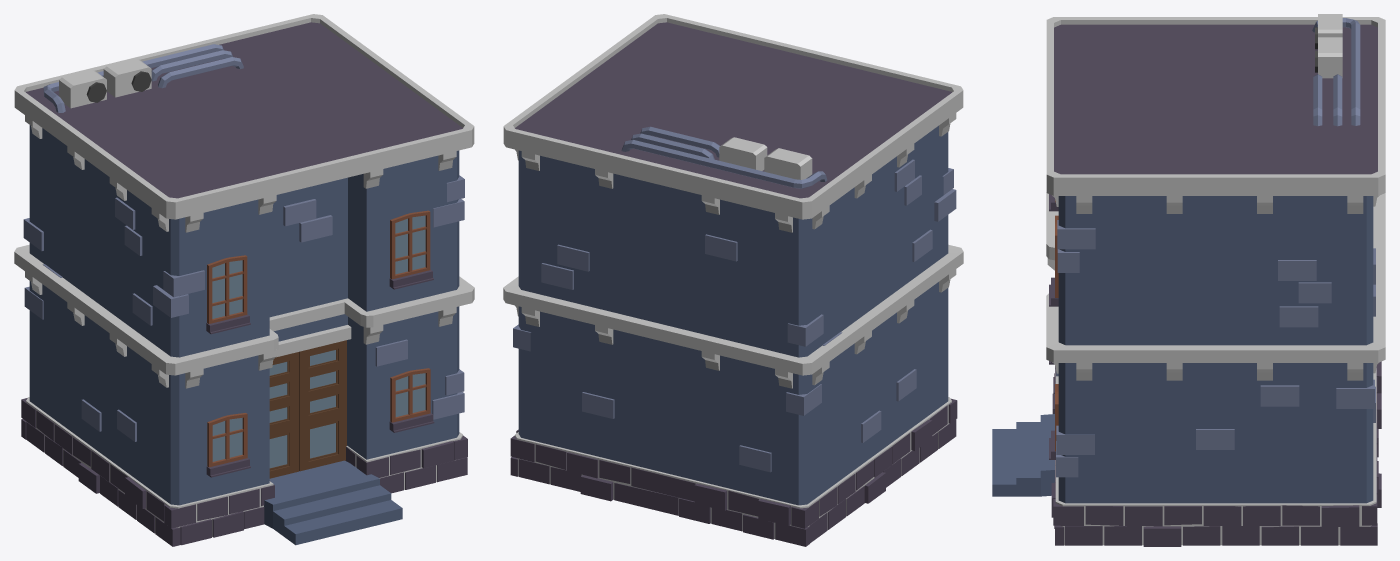
File: quat_2story_center.glb
3 renders of one model, left to right at view 1: azimuth 30°, elevation 25°; view 2: azimuth 150°, elevation 25°; view 3: azimuth 270°, elevation 25°, orthographic. The views are drawn at different scales.
Parts seen in each view (by area): view 1: 2Story_Center_Cube.029; view 2: 2Story_Center_Cube.029; view 3: 2Story_Center_Cube.029.
Part boxes in pixels (x1,y1,x2,y2): 2Story_Center_Cube.029: [14, 14, 474, 546]; 2Story_Center_Cube.029: [503, 14, 963, 546]; 2Story_Center_Cube.029: [992, 14, 1385, 546].
Bounding box in the file's own units: 2.42 × 2.74 × 2.5.
Materials: 1 (1 with a texture image).
